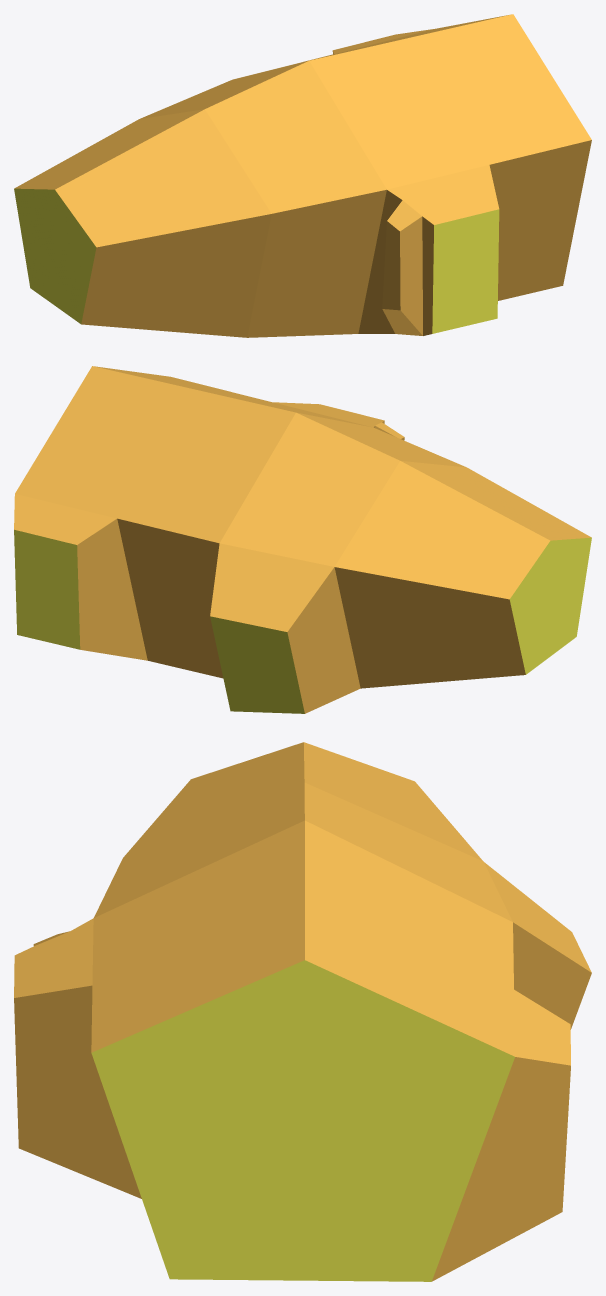
The model's file is ginger02.gltf.
3 renders of one model, top to bottom at view 1: azimuth 30°, elevation 25°; view 2: azimuth 150°, elevation 25°; view 3: azimuth 270°, elevation 25°, orthographic. The views are drawn at different scales.
Visible parts, largest first — view 1: Cylinder.001; view 2: Cylinder.001; view 3: Cylinder.001.
Boxes of the visible parts, bbox=[...] form: Cylinder.001: bbox=[14, 14, 591, 337]; Cylinder.001: bbox=[14, 366, 591, 713]; Cylinder.001: bbox=[14, 742, 591, 1281].
Size of the model in its own units: 0.0536 by 0.0268 by 0.0431.
Materials: 1 (1 with a texture image).
